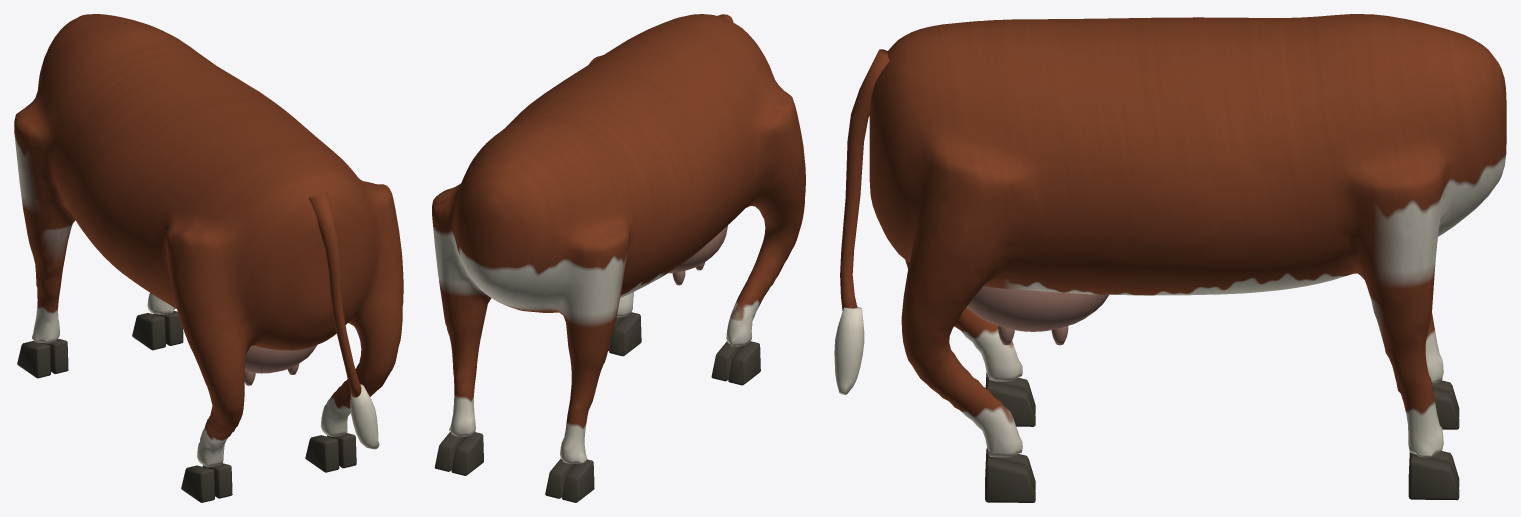
File: SM_Cow_Alive_Body_LOD1.glb
3 views of the same model, side by side, from view 1: azimuth 30°, elevation 25°; view 2: azimuth 150°, elevation 25°; view 3: azimuth 270°, elevation 25° (orthographic). The views are drawn at different scales.
Parts seen in each view (by area): view 1: SM_Cow_Alive_Body_LOD1; view 2: SM_Cow_Alive_Body_LOD1; view 3: SM_Cow_Alive_Body_LOD1.
Part boxes in pixels (left/top/right/bottom): SM_Cow_Alive_Body_LOD1: left=14, top=14, right=403, bottom=502; SM_Cow_Alive_Body_LOD1: left=432, top=14, right=805, bottom=502; SM_Cow_Alive_Body_LOD1: left=834, top=14, right=1506, bottom=502.
Size of the model in its own units: 0.9532 by 1.43 by 2.02.
5 materials, 5 textured.
